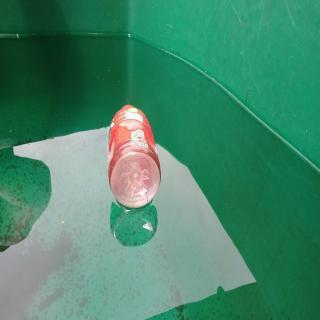bottle: (107, 104, 161, 208)
